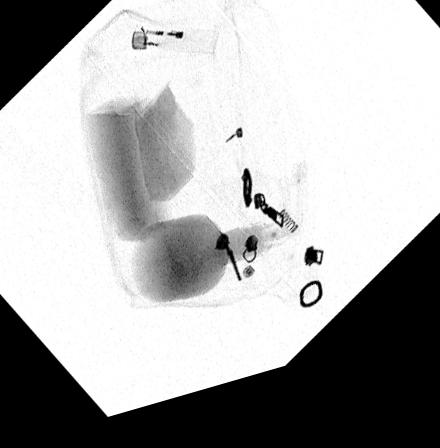Lighter: (130, 32, 220, 65)
